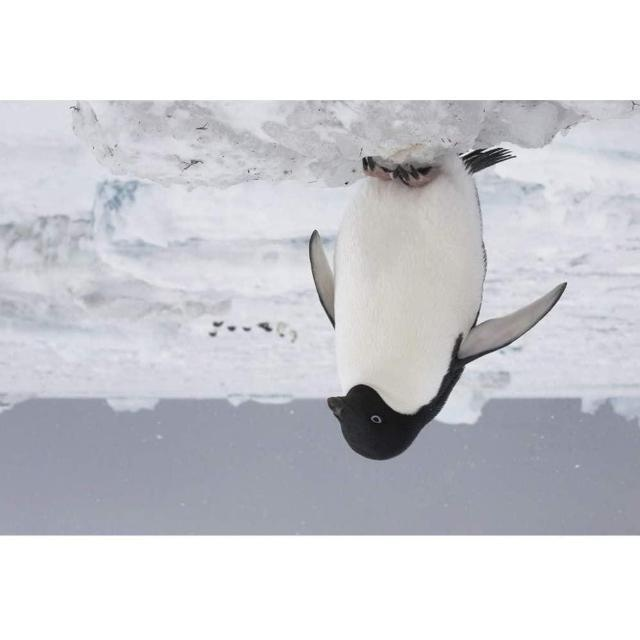penguin: (306, 145, 570, 464)
